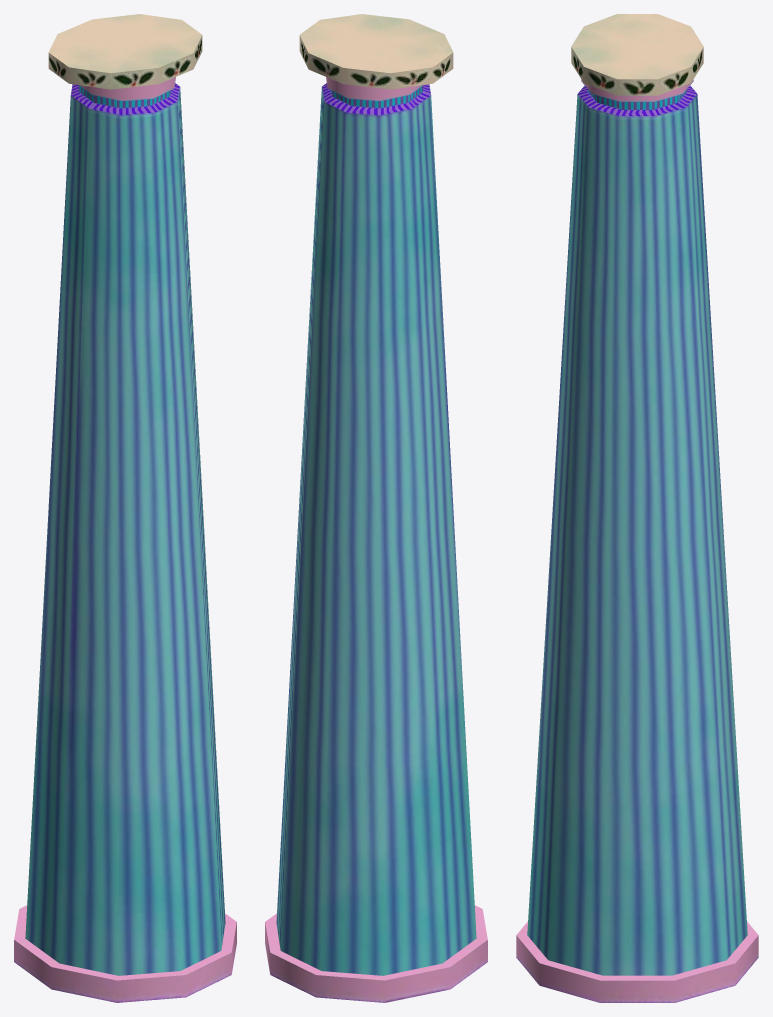
File: column-vapor-02.glb
3 views of the same model, side by side, from view 1: azimuth 30°, elevation 25°; view 2: azimuth 150°, elevation 25°; view 3: azimuth 270°, elevation 25° (orthographic).
Parts seen in each view (by area): view 1: Column_Vapor_02; view 2: Column_Vapor_02; view 3: Column_Vapor_02.
Part boxes in pixels (x1,y1,x2,y2): Column_Vapor_02: (14,14,236,1002); Column_Vapor_02: (265,14,487,1002); Column_Vapor_02: (516,14,758,1002).
Size of the model in its own units: 1.7 by 7.96 by 1.92.
Materials: 1 (1 with a texture image).
